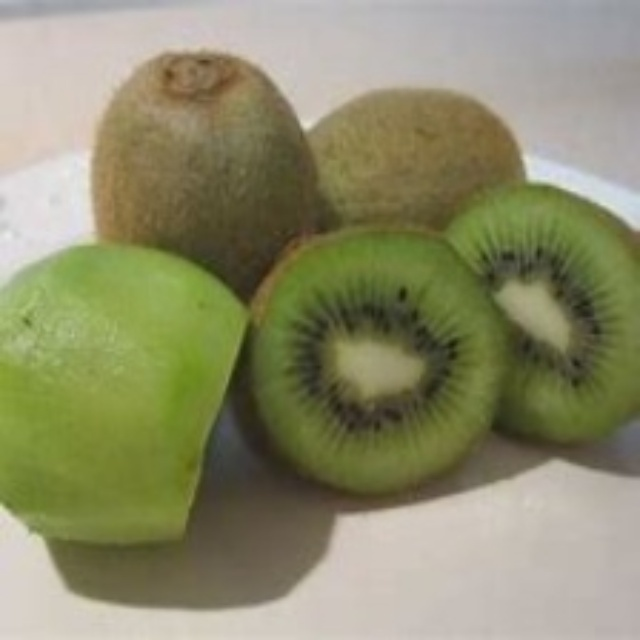kiwi: (262, 216, 639, 490), (2, 254, 253, 586), (96, 43, 312, 302), (291, 84, 532, 256)
